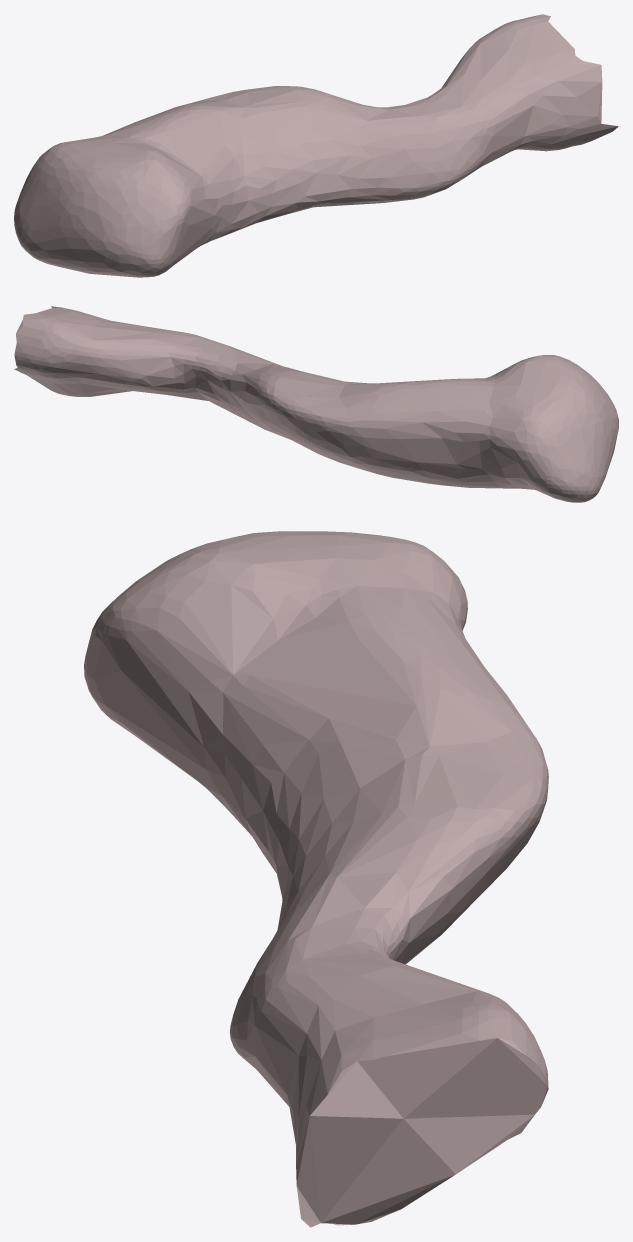
Rendered from Anterior_commissure.obj.
The picture shows the model from 3 angles, top to bottom: view 1: azimuth 30°, elevation 25°; view 2: azimuth 150°, elevation 25°; view 3: azimuth 270°, elevation 25°; orthographic projection. The views are drawn at different scales.
Parts seen in each view (by area): view 1: obj0; view 2: obj0; view 3: obj0.
Boxes of the visible parts, <box> form: obj0: <box>14,14,618,277</box>; obj0: <box>14,306,618,502</box>; obj0: <box>84,531,548,1227</box>.
Bounding box in the file's own units: 9 × 1.81 × 3.22.
1 material, 1 textured.
